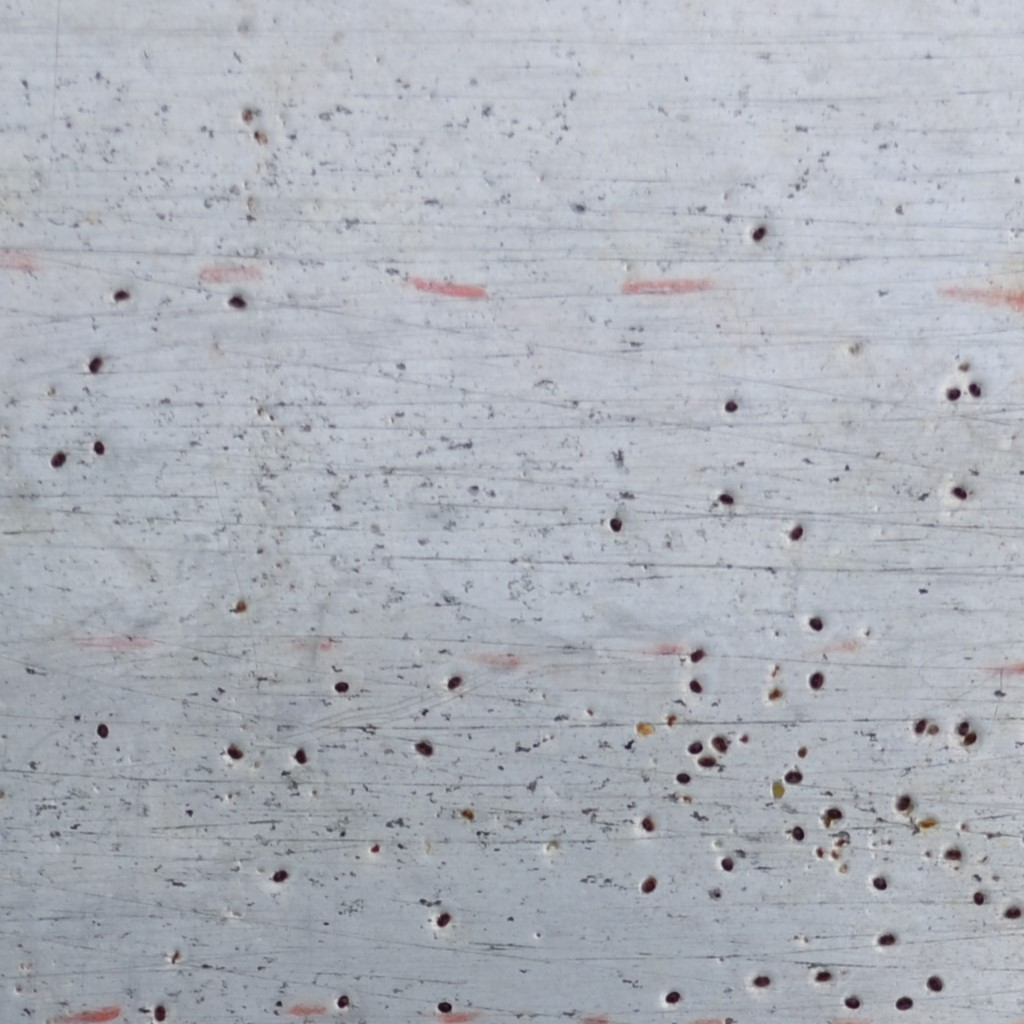varroa: (444, 670, 463, 697), (225, 292, 247, 313), (47, 448, 67, 470), (412, 739, 435, 758), (894, 992, 915, 1011), (870, 871, 889, 892), (434, 910, 453, 931), (86, 354, 103, 377), (718, 852, 734, 876), (749, 224, 769, 243), (226, 743, 247, 761), (875, 931, 897, 948), (809, 669, 826, 691), (783, 769, 805, 786), (711, 730, 728, 752), (786, 523, 805, 542), (639, 875, 658, 894), (951, 483, 968, 504), (151, 1001, 167, 1023), (693, 754, 718, 768), (894, 794, 913, 812), (844, 992, 863, 1010), (270, 866, 289, 884), (926, 973, 943, 993), (334, 989, 350, 1010), (813, 968, 835, 983), (686, 737, 704, 755), (717, 490, 736, 507), (752, 971, 771, 988), (607, 515, 623, 535), (291, 746, 307, 766), (1004, 904, 1021, 922), (690, 646, 707, 664), (664, 987, 682, 1004), (436, 999, 454, 1016), (806, 615, 825, 631), (90, 437, 106, 456), (946, 385, 961, 404), (964, 730, 979, 749), (912, 716, 927, 735), (966, 382, 983, 398), (722, 398, 739, 414), (790, 824, 806, 841), (675, 768, 692, 784), (113, 287, 130, 303), (826, 807, 844, 822), (640, 816, 658, 831), (689, 677, 703, 696), (333, 678, 349, 694), (96, 721, 109, 740), (956, 721, 971, 736), (945, 846, 961, 859), (972, 891, 985, 905)
